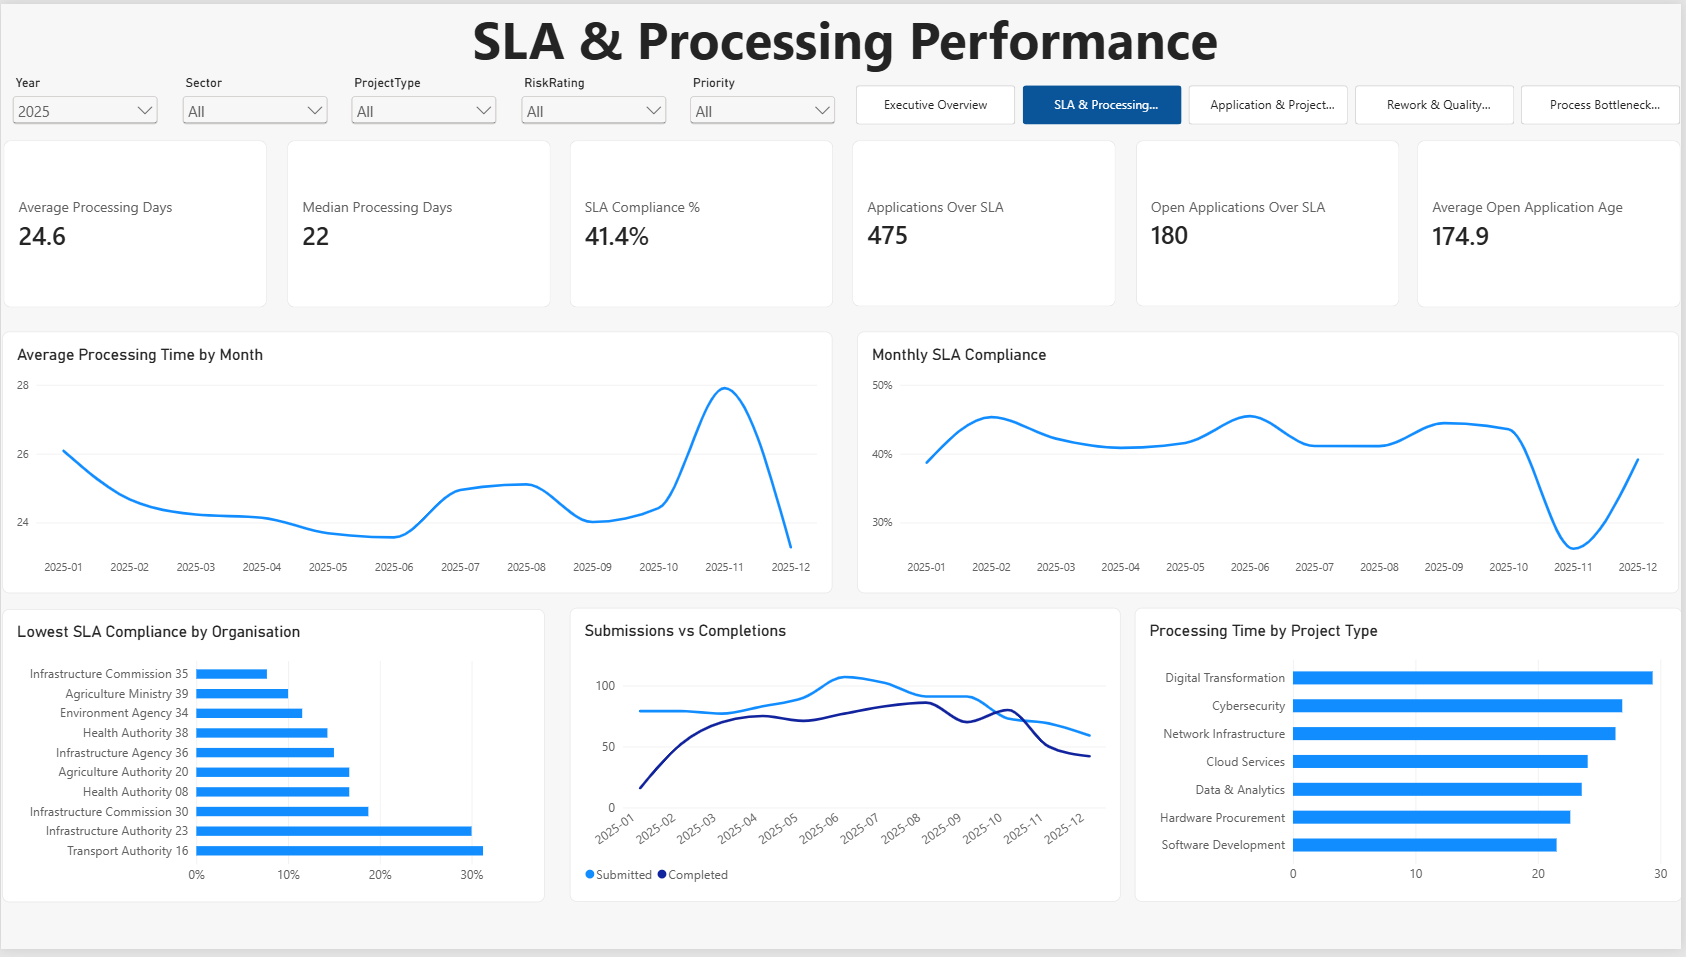

The dashboard page shown, as its layout file describes it:
{"tool":"powerbi","page":{"name":"SLA & Processing Performance","canvas":[1920,1080],"ordinal":1},"visuals":[{"type":"textbox","box":[10,0,1910,78.3],"z":0},{"type":"cardVisual","fields":{"Data":["_Measures.Average Processing Days"]},"box":[3.3,155,301.7,191.7],"z":1000},{"type":"cardVisual","fields":{"Data":["_Measures.Median Processing Days"]},"box":[326.7,155,301.7,191.7],"z":2000},{"type":"cardVisual","fields":{"Data":["_Measures.SLA Compliance %"]},"box":[650,155,301.7,191.7],"z":3000},{"type":"cardVisual","fields":{"Data":["_Measures.Applications Over SLA"]},"box":[973.3,155,301.7,190],"z":4000},{"type":"cardVisual","fields":{"Data":["_Measures.Open Applications Over SLA"]},"box":[1296.7,155,301.7,190],"z":5000},{"type":"cardVisual","title":"Approved Value","fields":{"Data":["_Measures.Average Open Application Age"]},"box":[1618.3,155,301.7,191.7],"z":6000},{"type":"lineChart","title":"Average Processing Time by Month","fields":{"Category":["DimDate.Year Month"],"Y":["_Measures.Average Processing Days"]},"box":[1.2,373.6,948.6,299.5],"z":7000},{"type":"lineChart","title":"Monthly SLA Compliance","fields":{"Category":["DimDate.Year Month"],"Y":["_Measures.SLA Compliance %"]},"box":[978.8,373.6,938.9,299.5],"z":8000},{"type":"clusteredBarChart","title":"Processing Time by Project Type","fields":{"Category":["DimProjectType.ProjectType"],"Y":["_Measures.Average Processing Days"]},"box":[1295.6,690.5,626,336.2],"z":9000},{"type":"clusteredBarChart","title":"Lowest SLA Compliance by Organisation","fields":{"Category":["DimOrganisation.OrganisationName"],"Y":["_Measures.SLA Compliance %"]},"box":[1.2,691,620,335],"z":10000},{"type":"lineChart","title":"Submissions vs Completions","fields":{"Category":["DimDate.Year Month"],"Y":["_Measures.Applications Submitted","_Measures.Applications Completed by Completion Date"]},"box":[650.3,690.5,629.8,336.2],"z":11000},{"type":"slicer","fields":{"Values":["FactApplications.Priority"]},"box":[783.1,82,175,65],"z":12000},{"type":"slicer","fields":{"Values":["FactApplications.RiskRating"]},"box":[589.5,82,175,65],"z":13000},{"type":"slicer","fields":{"Values":["DimProjectType.ProjectType"]},"box":[395.9,82,175,65],"z":14000},{"type":"slicer","fields":{"Values":["DimOrganisation.Sector"]},"box":[202.3,82,175,65],"z":15000},{"type":"slicer","fields":{"Values":["DimDate.Year"]},"box":[8.7,82,175,65],"z":16000},{"type":"pageNavigator","box":[976.7,93.3,943.3,45],"z":17000}]}

Visuals, with their boxes in screenshot pixels (x1, y1, x2, y2), scaled from the page's 1920x1080 canvas onto the 1686x957 screenshot:
textbox: bbox=(9, 0, 1685, 69)
cardVisual - _Measures.Average Processing Days: bbox=(3, 137, 268, 307)
cardVisual - _Measures.Median Processing Days: bbox=(287, 137, 552, 307)
cardVisual - _Measures.SLA Compliance %: bbox=(571, 137, 836, 307)
cardVisual - _Measures.Applications Over SLA: bbox=(855, 137, 1120, 306)
cardVisual - _Measures.Open Applications Over SLA: bbox=(1139, 137, 1404, 306)
"Approved Value" cardVisual: bbox=(1421, 137, 1685, 307)
"Average Processing Time by Month" lineChart: bbox=(1, 331, 834, 596)
"Monthly SLA Compliance" lineChart: bbox=(860, 331, 1684, 596)
"Processing Time by Project Type" clusteredBarChart: bbox=(1138, 612, 1685, 910)
"Lowest SLA Compliance by Organisation" clusteredBarChart: bbox=(1, 612, 545, 909)
"Submissions vs Completions" lineChart: bbox=(571, 612, 1124, 910)
slicer - FactApplications.Priority: bbox=(688, 73, 841, 130)
slicer - FactApplications.RiskRating: bbox=(518, 73, 671, 130)
slicer - DimProjectType.ProjectType: bbox=(348, 73, 501, 130)
slicer - DimOrganisation.Sector: bbox=(178, 73, 331, 130)
slicer - DimDate.Year: bbox=(8, 73, 161, 130)
pageNavigator: bbox=(858, 83, 1685, 123)
